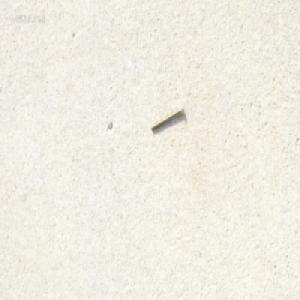Bolt: (150, 103, 183, 132)
